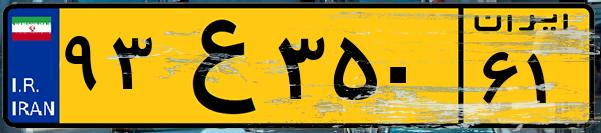0: (385, 28, 445, 110)
1: (525, 38, 570, 115)
3: (270, 28, 330, 110), (110, 28, 158, 98)
5: (330, 28, 385, 110)
6: (475, 38, 525, 113)
9: (57, 26, 110, 100)
ع: (158, 12, 270, 120)
